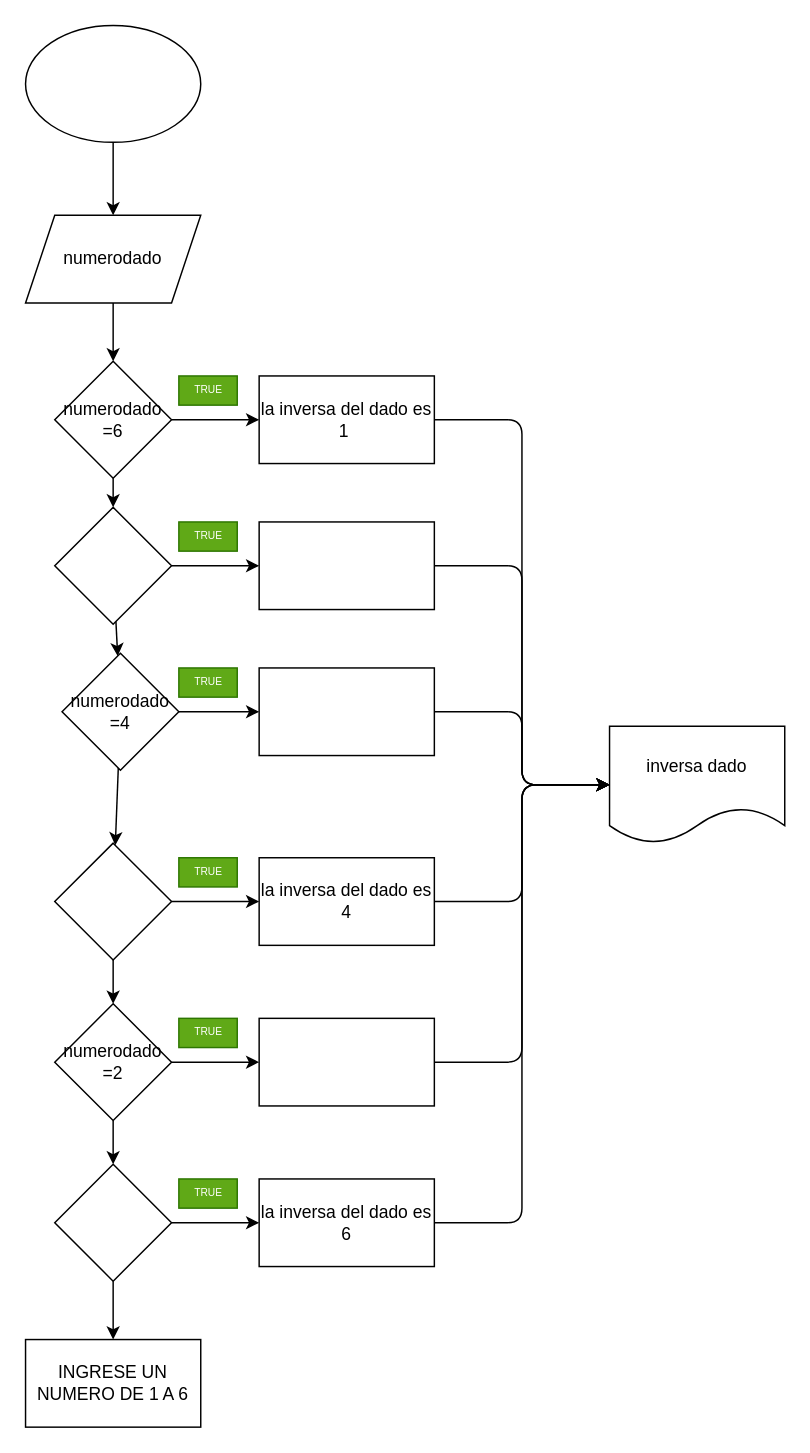
Image size: 810x1453. Some labels were removed from this diagram. The box of each missing label's shape, as (x1, y1, x2, y2) in pixels:
inicio: (24, 24, 201, 142)
la inversa del dado es 2: (258, 520, 434, 610)
la inversa del dado es 3: (258, 666, 434, 756)
la inversa del dado es 5: (258, 1017, 434, 1106)
numerodado =1: (53, 1163, 172, 1281)
numerodado =3: (53, 842, 172, 960)
numerodado =5: (53, 506, 172, 624)
